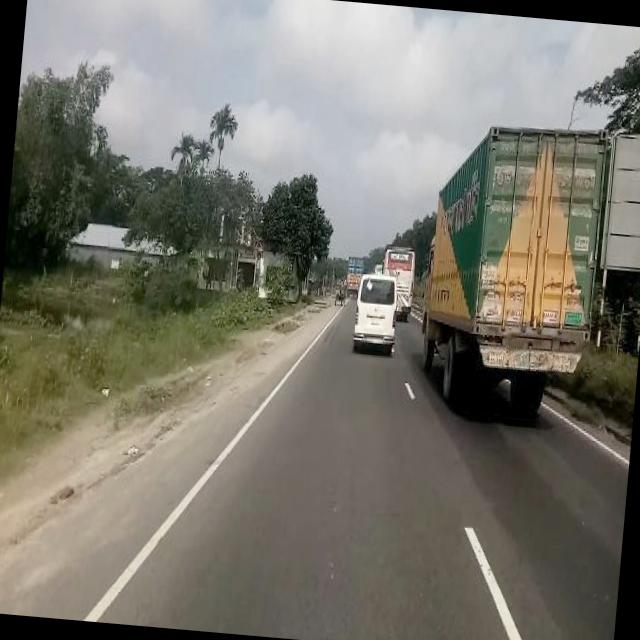bus: (378, 242, 415, 317), (369, 260, 382, 272)
truck: (414, 120, 606, 412), (352, 274, 399, 348), (343, 253, 362, 296)
